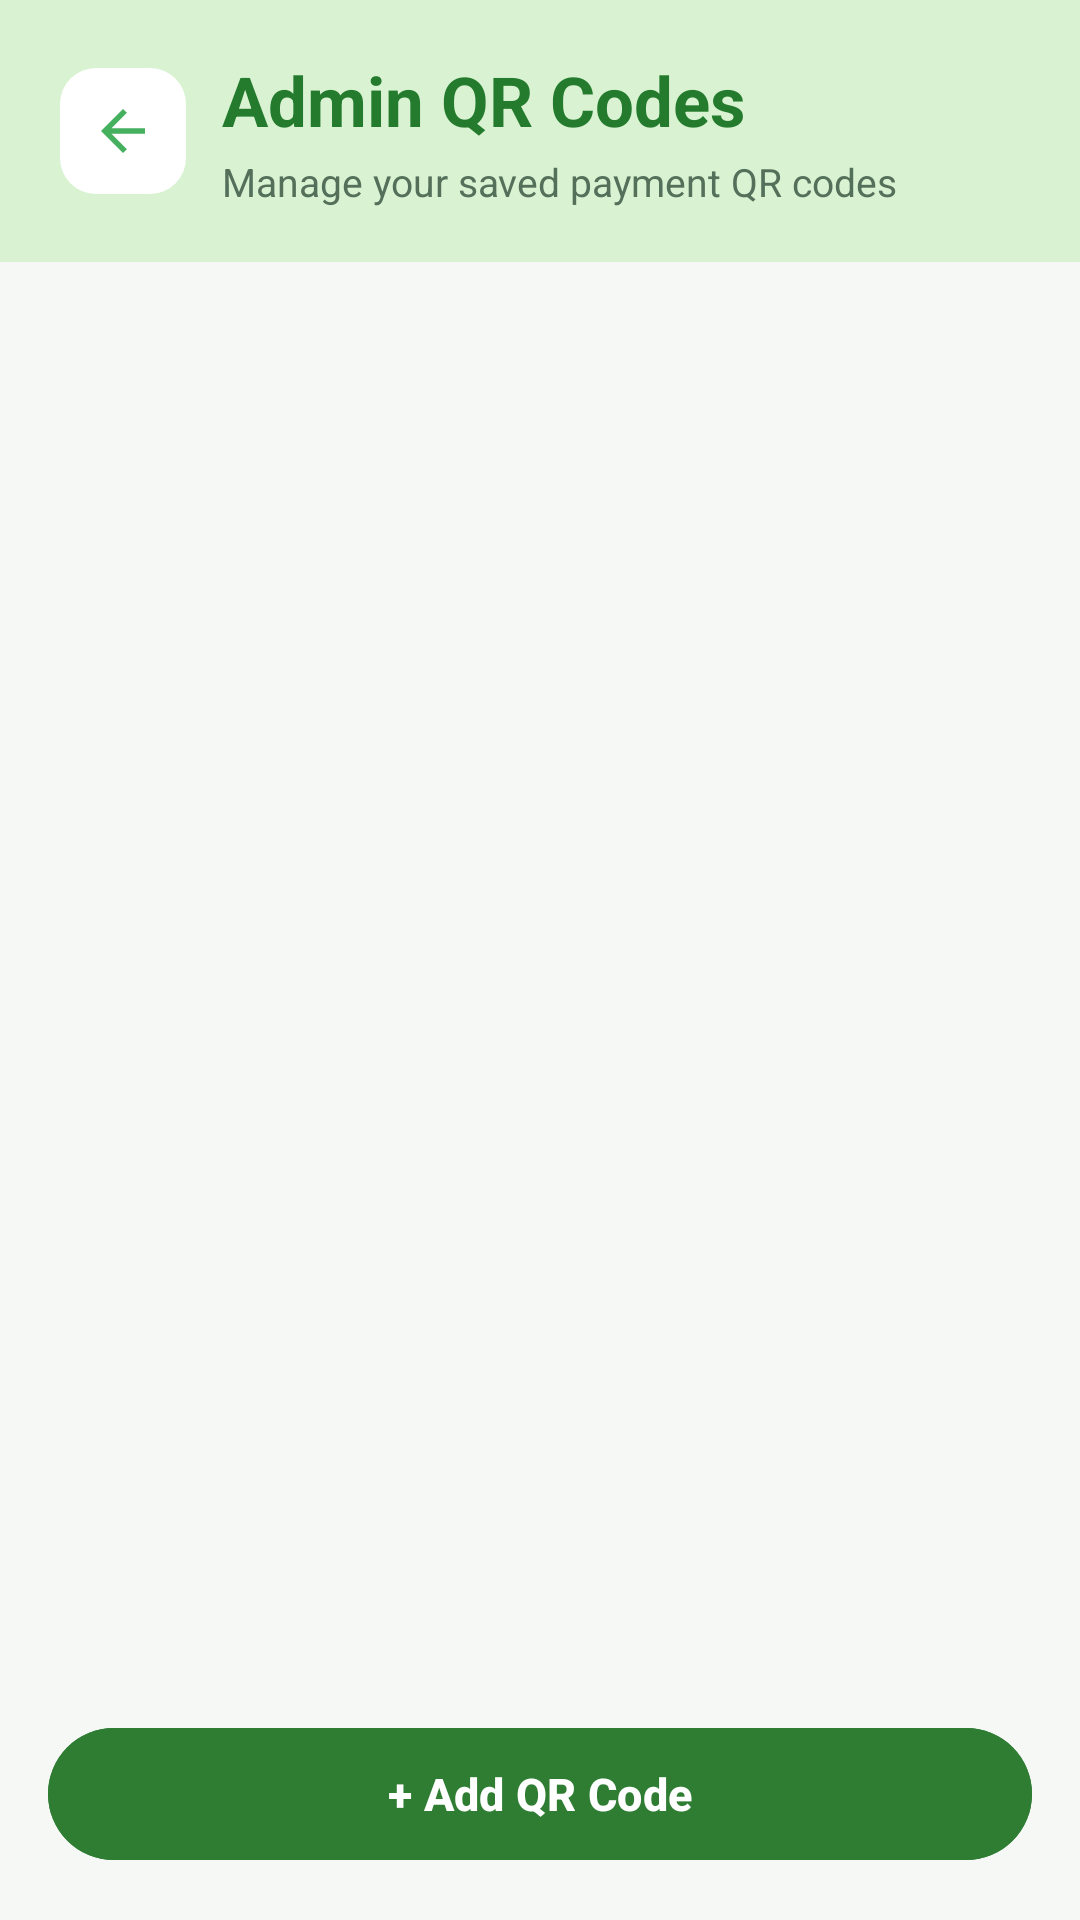

Point at icon controls on the screen. Image size 1080*1920, points as (x,y).
Back: (123,131)
